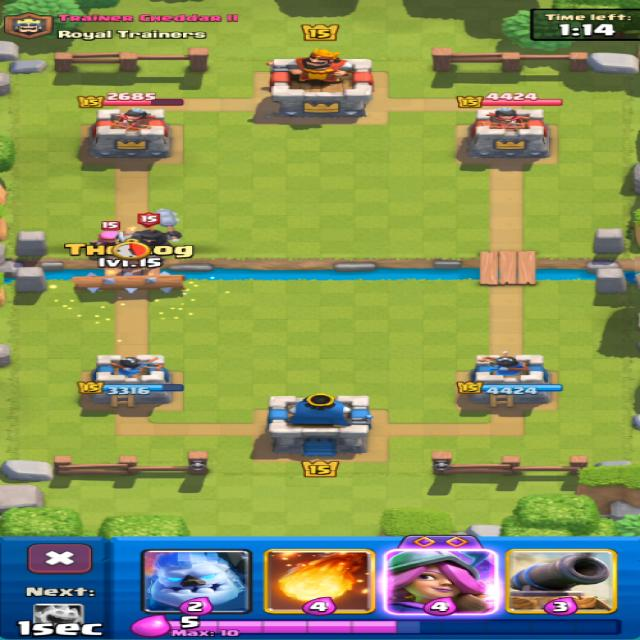Enemy-DarkPrince-Shield-Charge: (118, 209, 180, 248)
Enemy-Firecracker: (91, 230, 119, 247)
Enemy-KingTower: (268, 49, 372, 116)
Enemy-PrincessTower: (465, 107, 549, 163), (83, 109, 170, 163)
Player-KingTower: (268, 394, 371, 456)
Player-PrincessTower: (461, 352, 561, 406), (91, 355, 183, 407)
